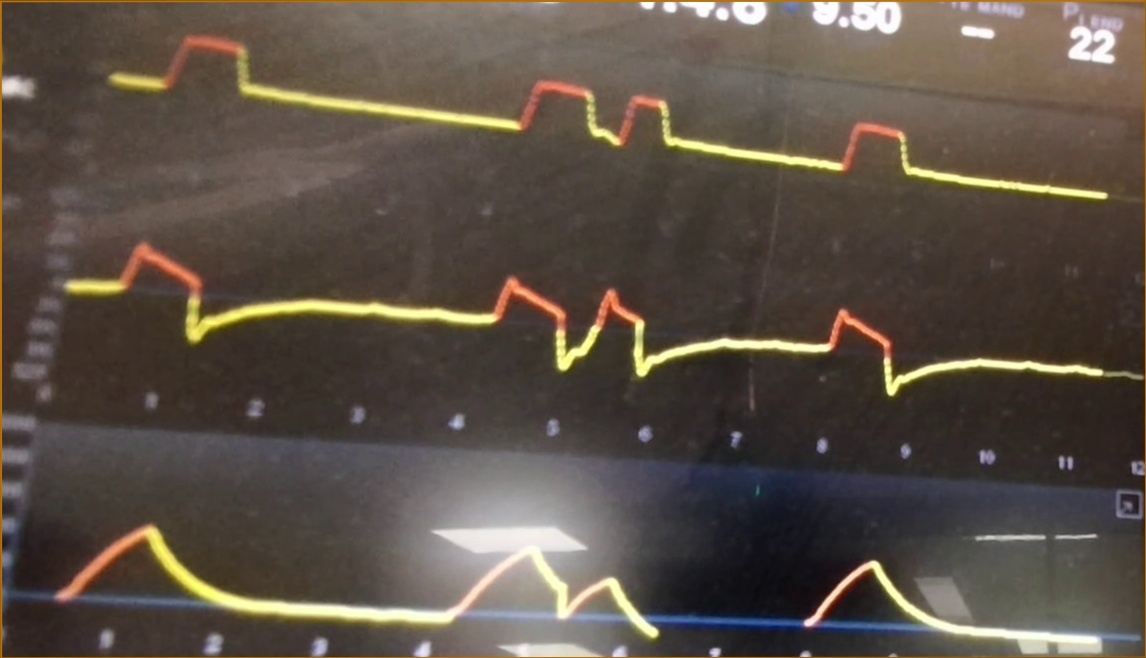Double_Triggering Flow: (69, 217, 1099, 406)
Double_Triggering Volume: (43, 514, 1089, 645)
